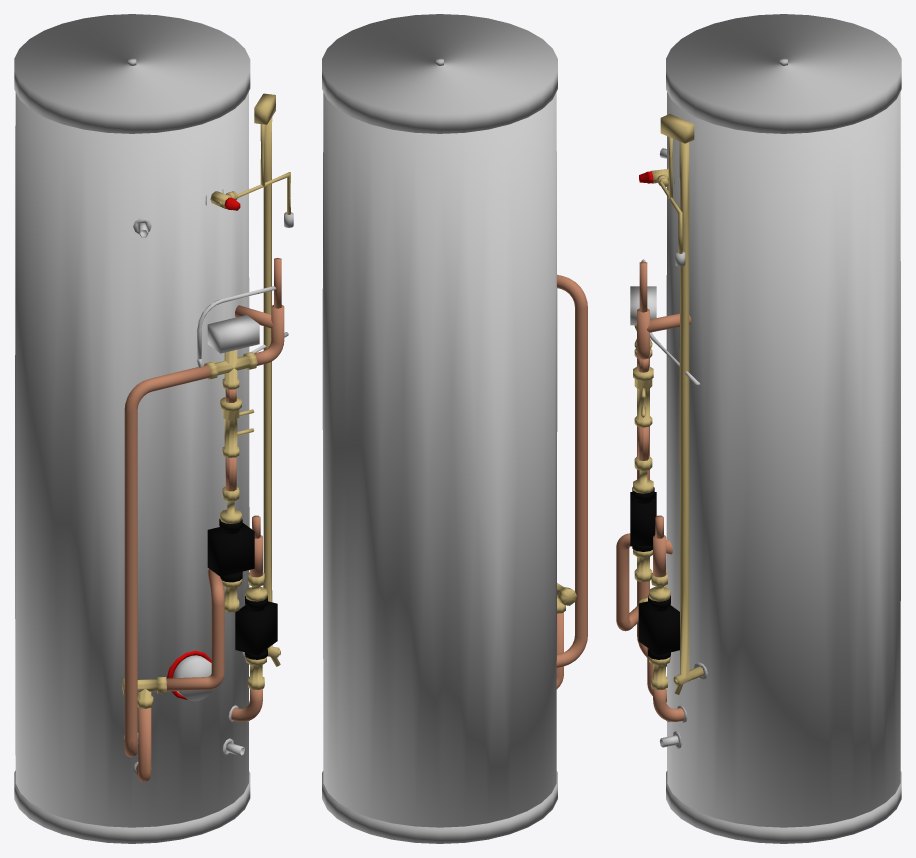
File: cylinder-elite.glb
The picture shows the model from 3 angles, left to right: view 1: azimuth 30°, elevation 25°; view 2: azimuth 150°, elevation 25°; view 3: azimuth 270°, elevation 25°; orthographic projection.
Visible parts, largest first — view 1: geometry_3, geometry_5, geometry_0, geometry_1, geometry_2, geometry_4, geometry_6; view 2: geometry_3, geometry_5, geometry_0; view 3: geometry_3, geometry_5, geometry_1, geometry_0, geometry_2, geometry_4.
Boxes of the visible parts, x1=… form: geometry_3: x1=15, y1=92, x2=288, y2=827; geometry_5: x1=14, y1=14, x2=293, y2=843; geometry_0: x1=124, y1=258, x2=284, y2=782; geometry_1: x1=122, y1=93, x2=290, y2=708; geometry_2: x1=207, y1=518, x2=277, y2=659; geometry_4: x1=207, y1=315, x2=259, y2=353; geometry_6: x1=167, y1=197, x2=240, y2=699; geometry_3: x1=322, y1=92, x2=557, y2=827; geometry_5: x1=322, y1=14, x2=557, y2=843; geometry_0: x1=556, y1=274, x2=587, y2=688; geometry_3: x1=641, y1=92, x2=900, y2=827; geometry_5: x1=666, y1=14, x2=901, y2=843; geometry_1: x1=633, y1=114, x2=703, y2=694; geometry_0: x1=616, y1=261, x2=691, y2=721; geometry_2: x1=630, y1=487, x2=679, y2=659; geometry_4: x1=630, y1=286, x2=656, y2=325.
Bounding box in the file's own units: 0.5715 × 1.86 × 0.6562.
